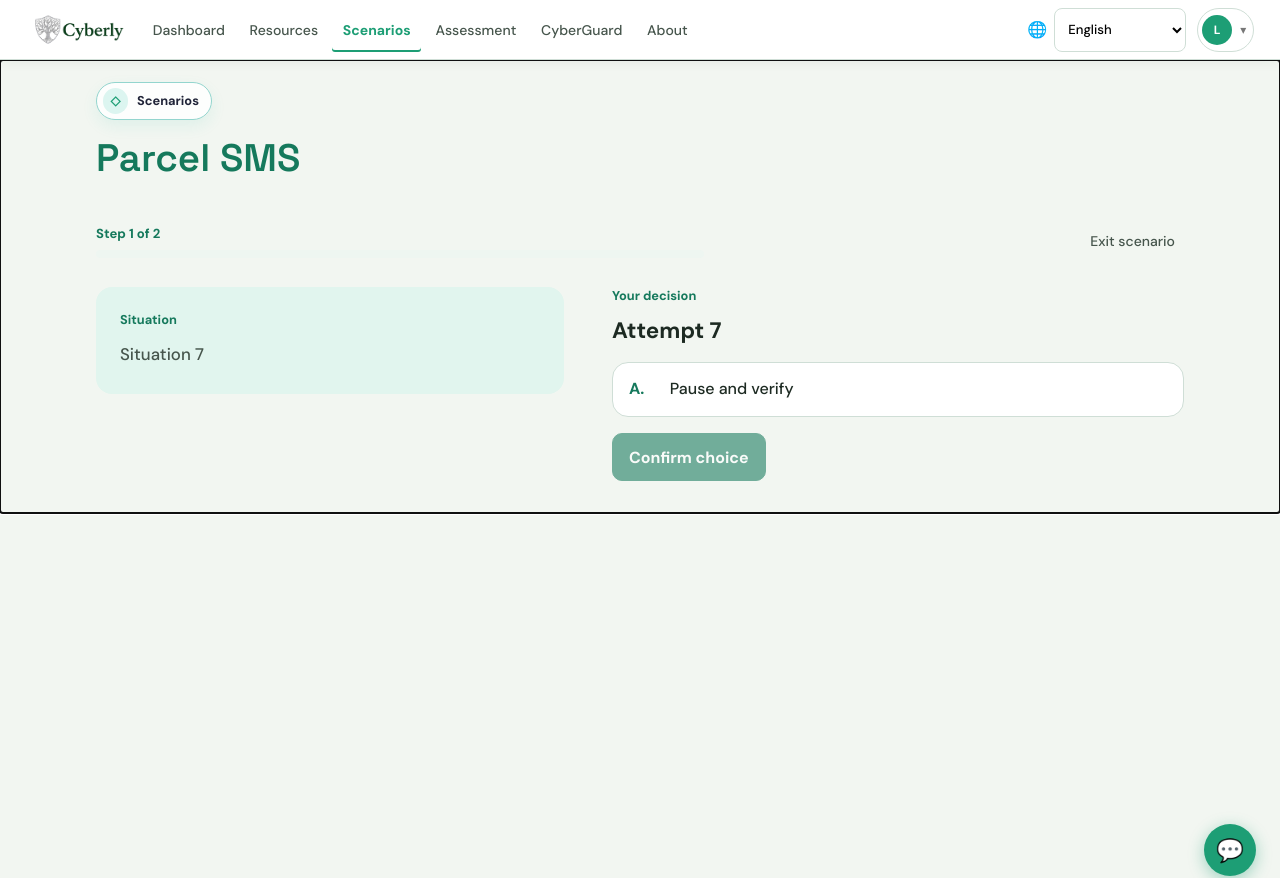
it: active exact Scenario preserves main-nav Dashboard destination after Cancel then Confirm
The width and height of the screenshot is (1280, 878).
Check: the text "Situation 7" is shown, box top-left (120, 343), bottom-right (204, 365)
Click the button "Dashboard": (189, 30) top-left (142, 8), bottom-right (235, 52)
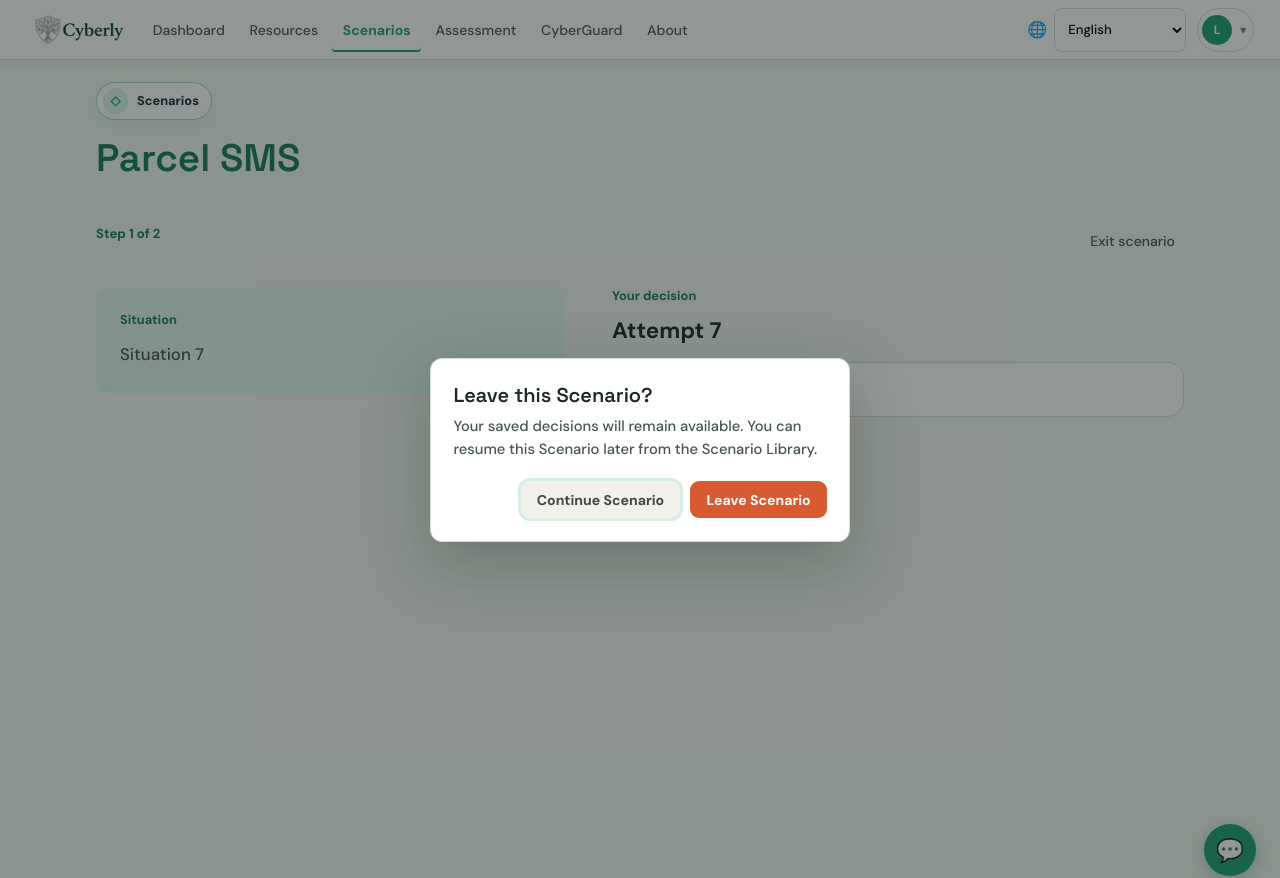
Check: the dialog is shown, box top-left (430, 358), bottom-right (850, 542)
Click the button "Continue Scenario": (600, 500) top-left (521, 481), bottom-right (680, 518)
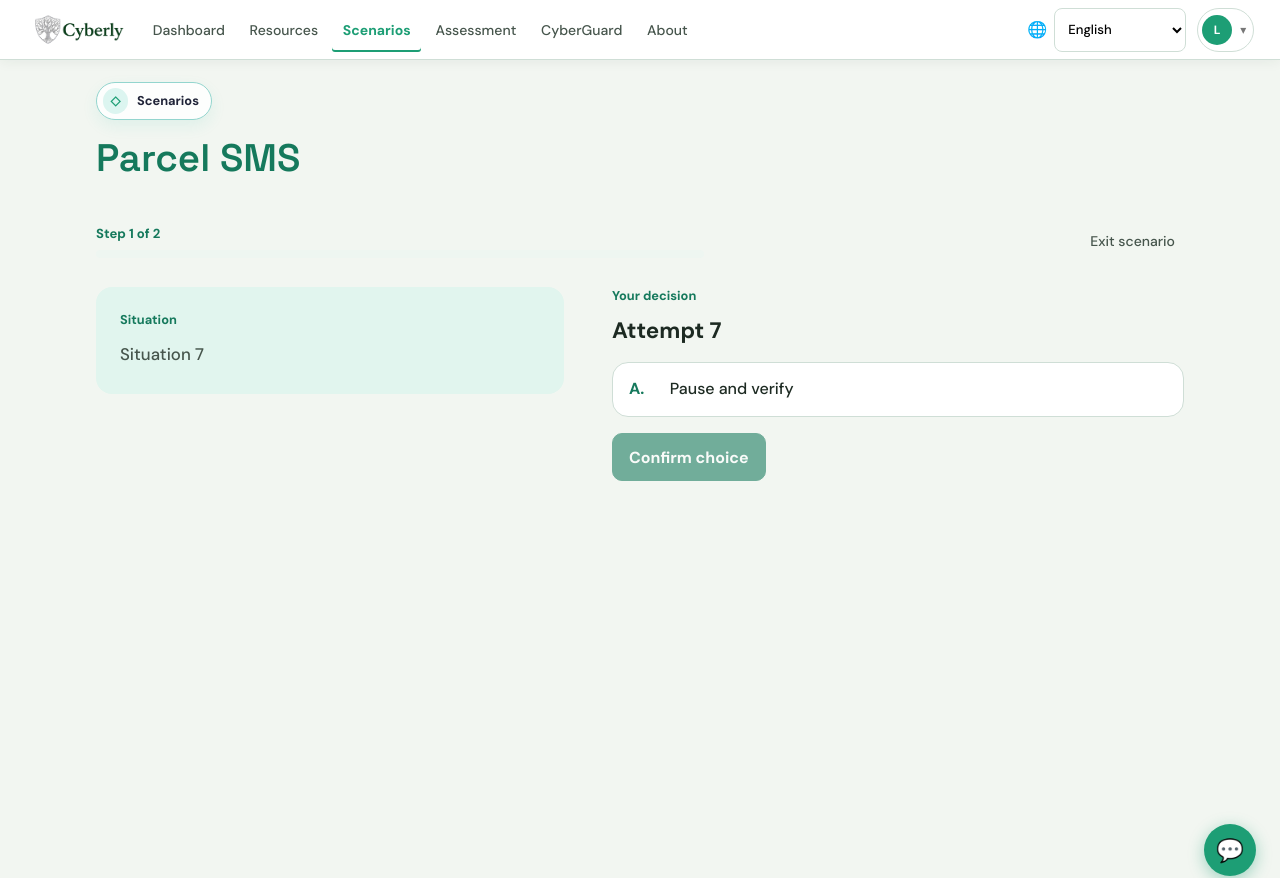
Check: the text "Situation 7" is shown, box top-left (120, 343), bottom-right (204, 365)
Click the button "Dashboard": (189, 30) top-left (142, 8), bottom-right (235, 52)
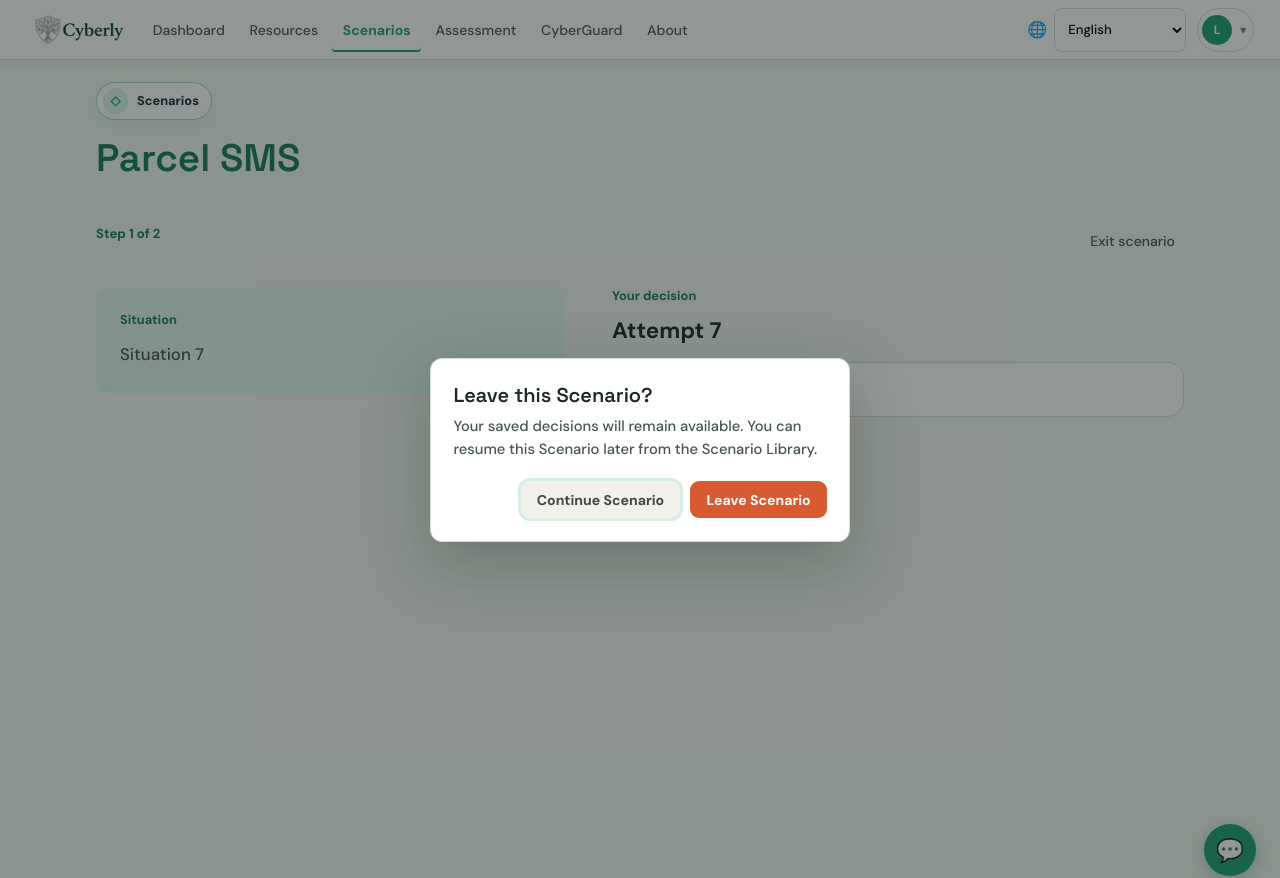
Click the button "Leave Scenario": (759, 500) top-left (690, 481), bottom-right (827, 518)
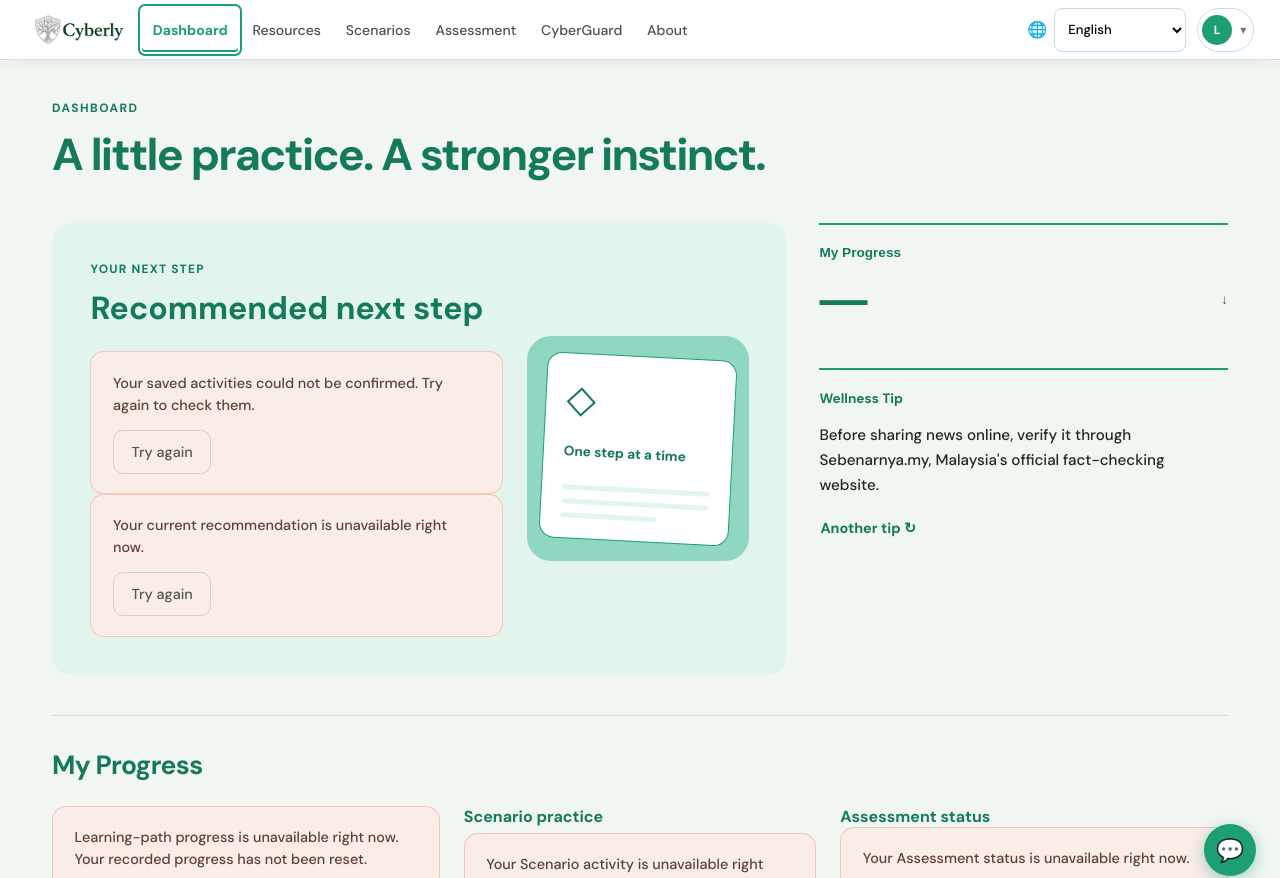
Check: the heading "A little practice. A stronger instinct." is shown, box top-left (52, 126), bottom-right (765, 184)
Check: the text "Situation 7" is gone
